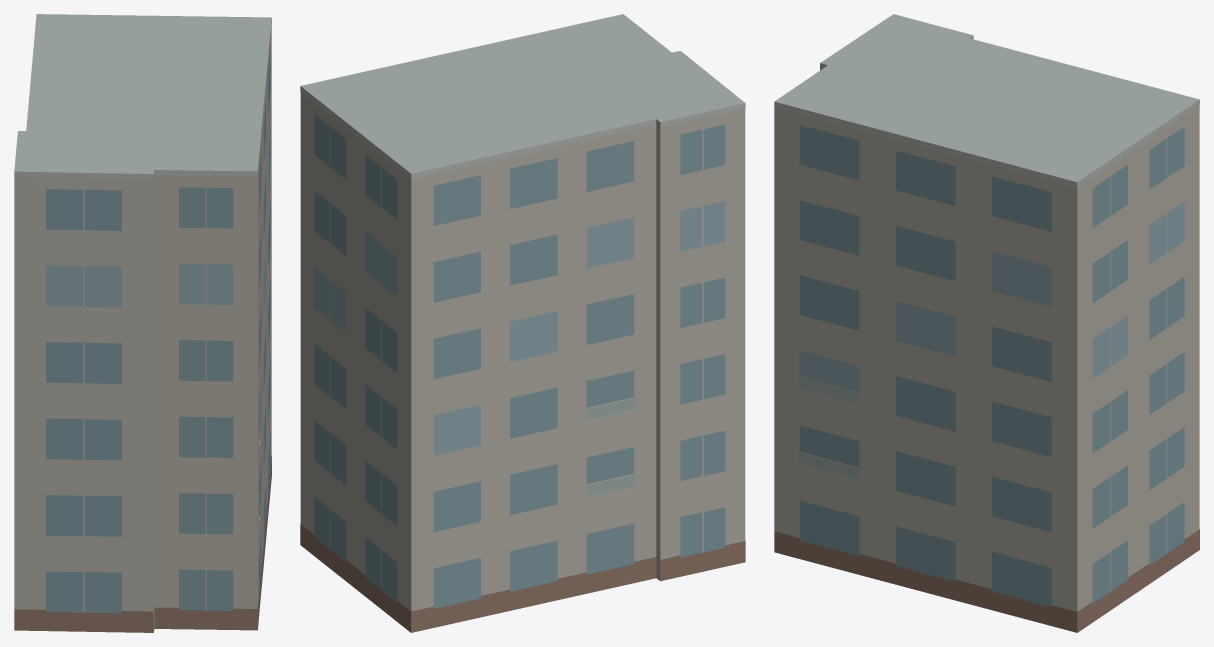
The model's file is survey-upis-32950699.glb.
The picture shows the model from 3 angles, left to right: view 1: azimuth 30°, elevation 25°; view 2: azimuth 150°, elevation 25°; view 3: azimuth 270°, elevation 25°; orthographic projection.
Visible parts, largest first — view 1: survey-upis-32950699.tmp; view 2: survey-upis-32950699.tmp; view 3: survey-upis-32950699.tmp.
Part boxes in pixels (x1,y1,x2,y2): survey-upis-32950699.tmp: (14, 14, 271, 632); survey-upis-32950699.tmp: (300, 14, 745, 632); survey-upis-32950699.tmp: (774, 14, 1199, 632).
Bounding box in the file's own units: 16.31 × 20.35 × 17.42.
